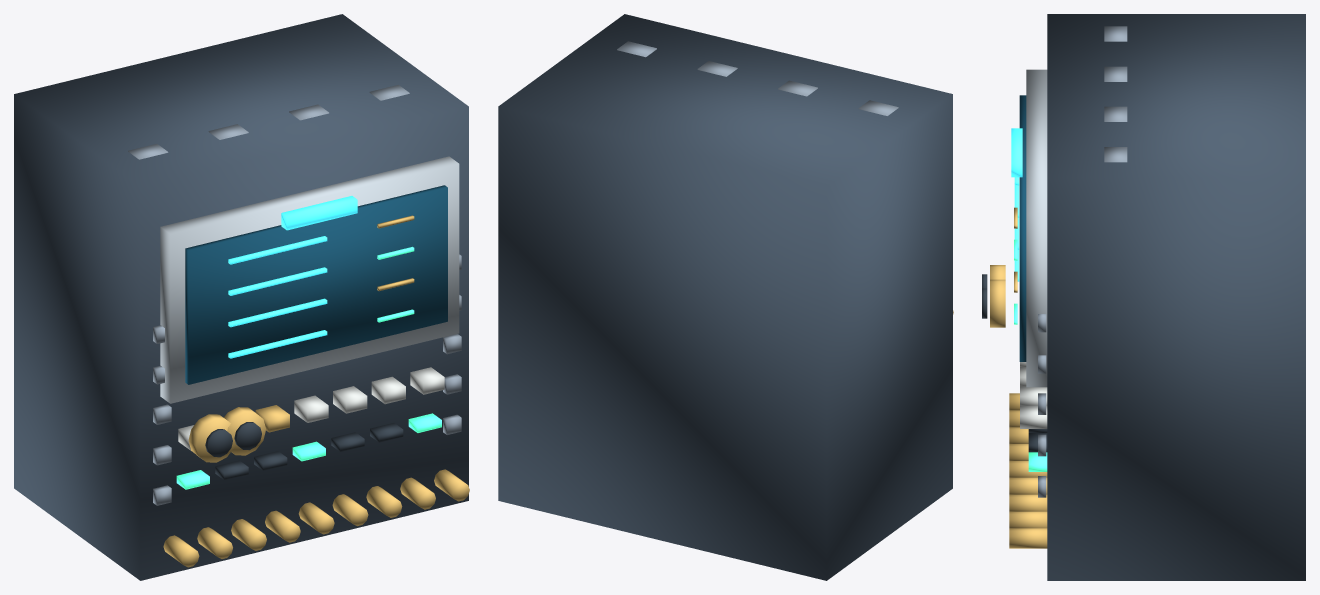
File: 42_L88_ElectrolyzerCellMonitoringConsole.fbx
The picture shows the model from 3 angles, left to right: view 1: azimuth 30°, elevation 25°; view 2: azimuth 150°, elevation 25°; view 3: azimuth 270°, elevation 25°; orthographic projection. The views are drawn at different scales.
Visible parts, largest first — view 1: L87_ElectrolyzerCellMonitorin_Part_0000, L87_ElectrolyzerCellMonitorin_Part_0002, L87_ElectrolyzerCellMonitorin_Part_0001, L87_ElectrolyzerCellMonitorin_Part_0004, L87_ElectrolyzerCellMonitorin_Part_0008, L87_ElectrolyzerCellMonitorin_Part_0006, L87_ElectrolyzerCellMonitorin_Part_0003, L87_ElectrolyzerCellMonitorin_Part_0007, L87_ElectrolyzerCellMonitorin_Part_0005, L87_ElectrolyzerCellMonitorin_Part_0009, L87_ElectrolyzerCellMonitorin_Part_0010, L87_ElectrolyzerCellMonitorin_Part_0012 (+2 smaller); view 2: L87_ElectrolyzerCellMonitorin_Part_0000, L87_ElectrolyzerCellMonitorin_Part_0008; view 3: L87_ElectrolyzerCellMonitorin_Part_0000, L87_ElectrolyzerCellMonitorin_Part_0001, L87_ElectrolyzerCellMonitorin_Part_0004, L87_ElectrolyzerCellMonitorin_Part_0008, L87_ElectrolyzerCellMonitorin_Part_0002, L87_ElectrolyzerCellMonitorin_Part_0006, L87_ElectrolyzerCellMonitorin_Part_0012, L87_ElectrolyzerCellMonitorin_Part_0009, L87_ElectrolyzerCellMonitorin_Part_0005, L87_ElectrolyzerCellMonitorin_Part_0003.
Part boxes in pixels (bbox=[...]): L87_ElectrolyzerCellMonitorin_Part_0000: bbox=[14, 14, 468, 580]; L87_ElectrolyzerCellMonitorin_Part_0002: bbox=[185, 185, 447, 384]; L87_ElectrolyzerCellMonitorin_Part_0001: bbox=[160, 156, 459, 403]; L87_ElectrolyzerCellMonitorin_Part_0004: bbox=[163, 215, 469, 567]; L87_ElectrolyzerCellMonitorin_Part_0008: bbox=[128, 85, 461, 505]; L87_ElectrolyzerCellMonitorin_Part_0006: bbox=[178, 367, 444, 450]; L87_ElectrolyzerCellMonitorin_Part_0003: bbox=[228, 236, 327, 358]; L87_ElectrolyzerCellMonitorin_Part_0007: bbox=[215, 423, 403, 480]; L87_ElectrolyzerCellMonitorin_Part_0005: bbox=[176, 246, 441, 489]; L87_ElectrolyzerCellMonitorin_Part_0009: bbox=[281, 196, 357, 230]; L87_ElectrolyzerCellMonitorin_Part_0010: bbox=[188, 414, 235, 462]; L87_ElectrolyzerCellMonitorin_Part_0012: bbox=[224, 407, 265, 455]; L87_ElectrolyzerCellMonitorin_Part_0000: bbox=[498, 14, 952, 580]; L87_ElectrolyzerCellMonitorin_Part_0008: bbox=[617, 41, 898, 115]; L87_ElectrolyzerCellMonitorin_Part_0000: bbox=[1047, 14, 1305, 580]; L87_ElectrolyzerCellMonitorin_Part_0001: bbox=[1026, 69, 1047, 387]; L87_ElectrolyzerCellMonitorin_Part_0004: bbox=[1009, 207, 1047, 548]; L87_ElectrolyzerCellMonitorin_Part_0008: bbox=[1038, 26, 1127, 497]; L87_ElectrolyzerCellMonitorin_Part_0002: bbox=[1019, 95, 1026, 361]; L87_ElectrolyzerCellMonitorin_Part_0006: bbox=[1020, 362, 1047, 428]; L87_ElectrolyzerCellMonitorin_Part_0012: bbox=[990, 279, 1005, 327]; L87_ElectrolyzerCellMonitorin_Part_0009: bbox=[1011, 128, 1022, 177]; L87_ElectrolyzerCellMonitorin_Part_0005: bbox=[1014, 239, 1047, 471]; L87_ElectrolyzerCellMonitorin_Part_0003: bbox=[1014, 177, 1019, 281].
Size of the model in its own units: 1.04 by 1.2 by 0.8688.
